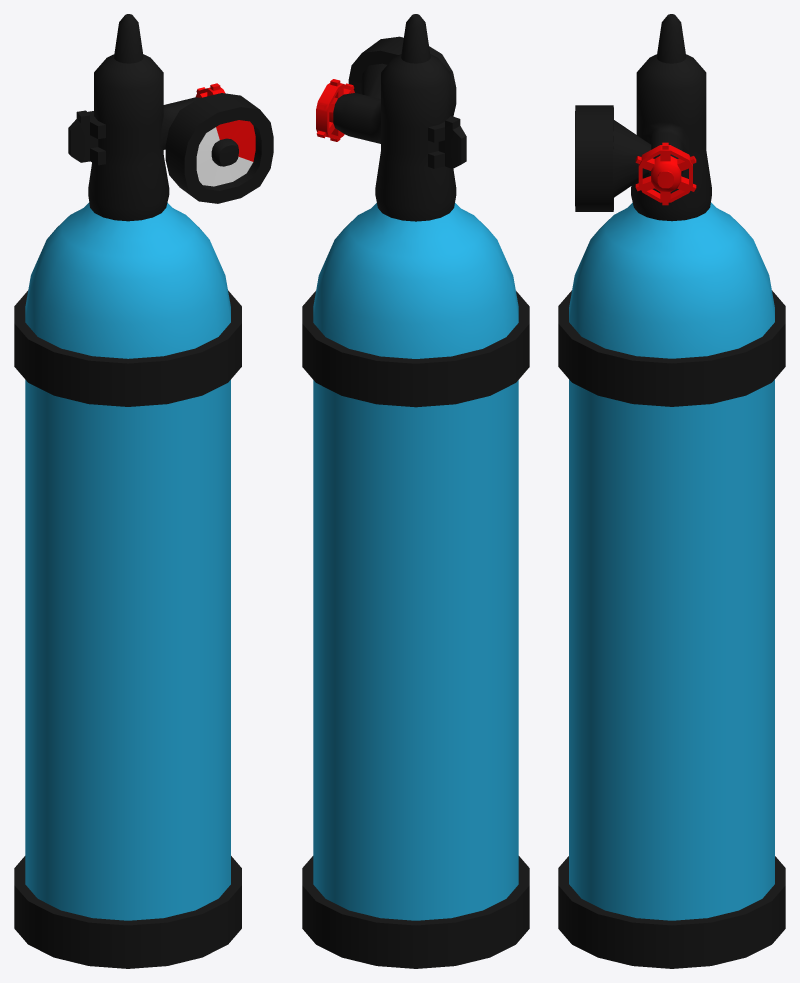
The model's file is Oxygen_tank.fbx.
The picture shows the model from 3 angles, left to right: view 1: azimuth 30°, elevation 25°; view 2: azimuth 150°, elevation 25°; view 3: azimuth 270°, elevation 25°; orthographic projection.
Visible parts, largest first — view 1: Cylinder001; view 2: Cylinder001; view 3: Cylinder001.
Part boxes in pixels (<box>): Cylinder001: <box>14,14,273,968</box>; Cylinder001: <box>302,14,529,968</box>; Cylinder001: <box>558,14,785,968</box>.
Bounding box in the file's own units: 30.63 × 132 × 30.16.
